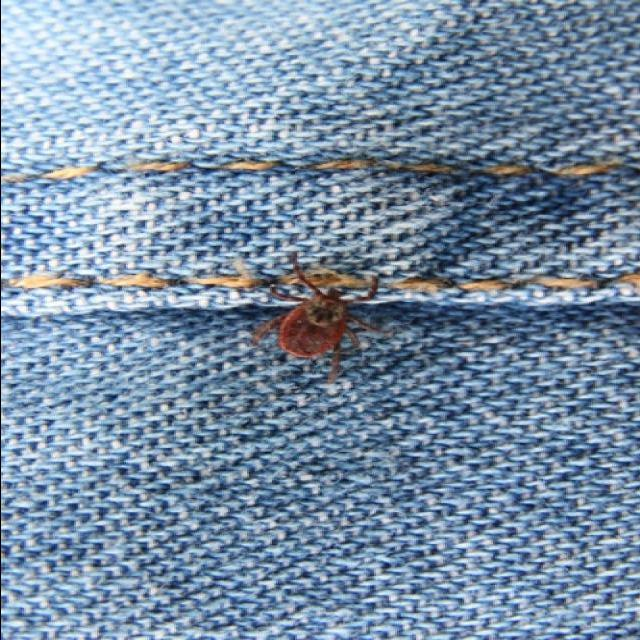Dermacentor Reticulatus-F: (250, 252, 379, 383)
